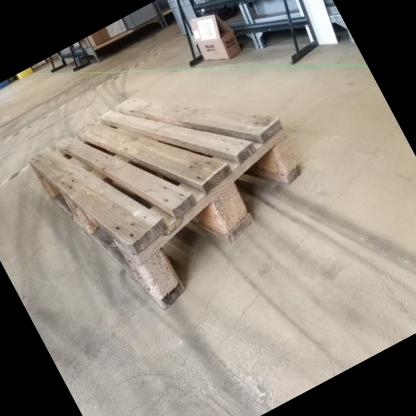BoxFace: (25, 88, 308, 318)
